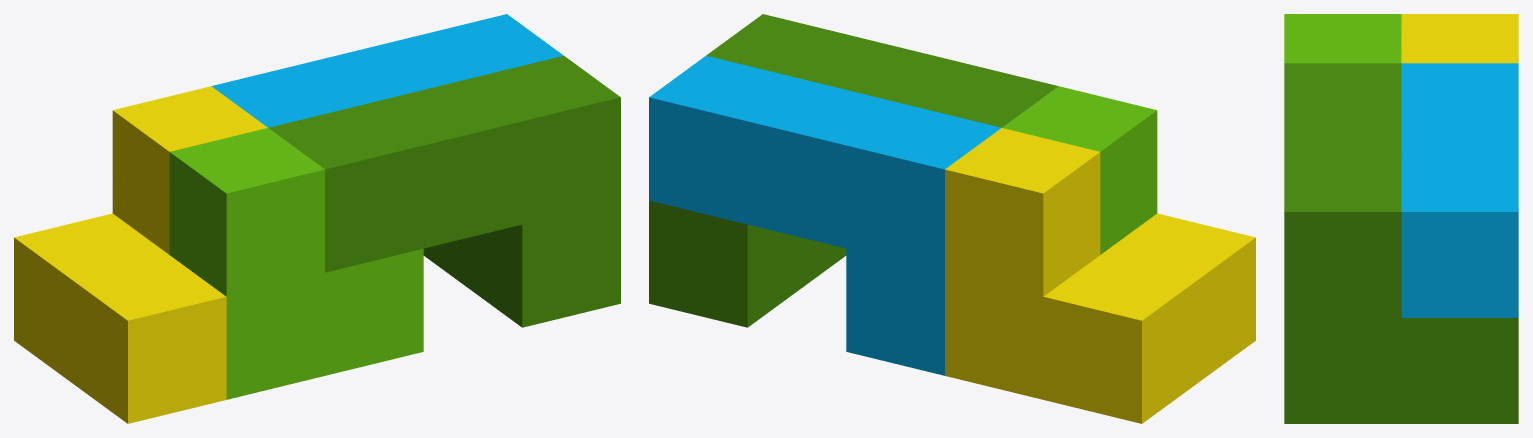
3 views of the same model, side by side, from view 1: azimuth 30°, elevation 25°; view 2: azimuth 150°, elevation 25°; view 3: azimuth 270°, elevation 25° (orthographic). The views are drawn at different scales.
Parts seen in each view (by area): view 1: mergedBlocks(Clone); view 2: mergedBlocks(Clone); view 3: mergedBlocks(Clone).
Part boxes in pixels (left/top/right/bottom): mergedBlocks(Clone): left=14, top=14, right=620, bottom=423; mergedBlocks(Clone): left=649, top=14, right=1255, bottom=423; mergedBlocks(Clone): left=1284, top=14, right=1518, bottom=423.
Bounding box in the file's own units: 5 × 2 × 2.
Materials: 4 (4 with a texture image).
